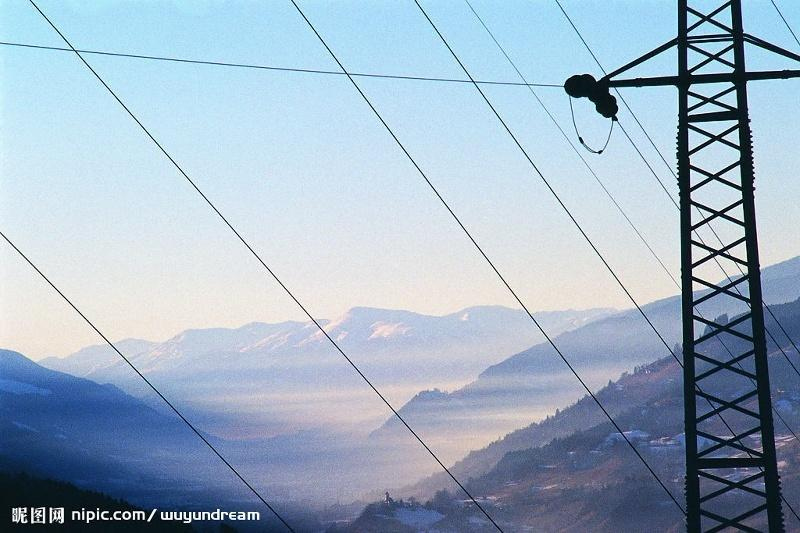power_tower: (615, 13, 781, 529)
